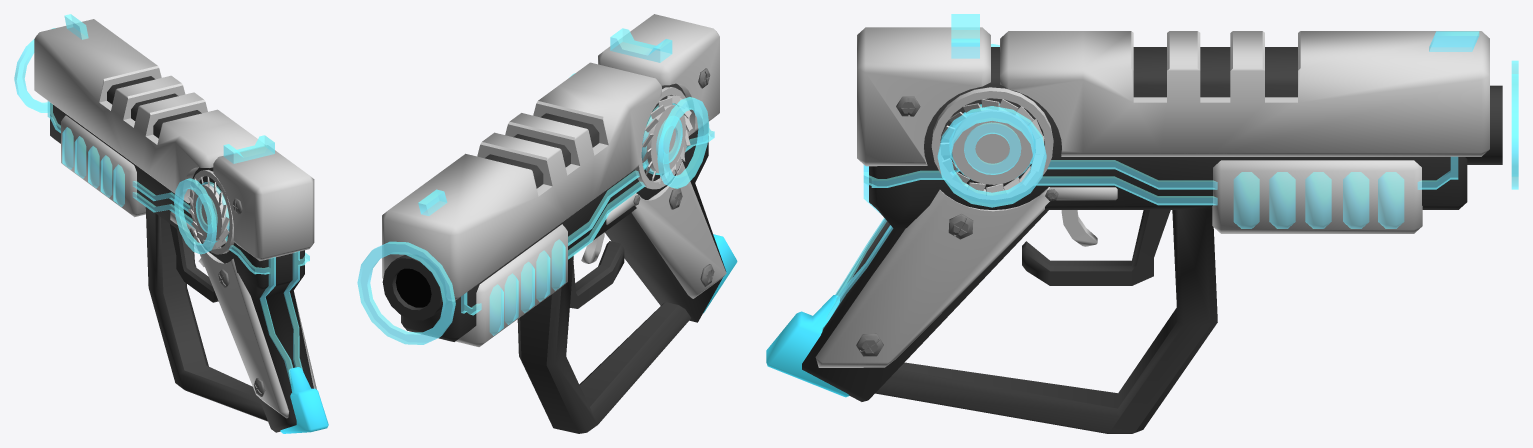
The model's file is Laser_gun.fbx.
The picture shows the model from 3 angles, left to right: view 1: azimuth 30°, elevation 25°; view 2: azimuth 150°, elevation 25°; view 3: azimuth 270°, elevation 25°; orthographic projection. The views are drawn at different scales.
Parts seen in each view (by area): view 1: Cube, Cube_1_4, Cube_2_4, Cube_4_2, Cube_3_3, Cube_11_2, Cube_10, Tube_3_4, Cylinder_4_2, Tube_2, Cube_2, Tube_2_2 (+8 smaller); view 2: Cube_1_4, Cube, Cube_2_4, Cube_3_3, Cube_4_2, Tube_2, Tube_3_4, Tube_3, Cylinder_4_2, Cube_11_2, Cube_2, Tube_4 (+11 smaller); view 3: Cube, Cube_1_4, Cube_4_2, Cube_3_3, Cube_2_4, Cylinder_3_2, Cube_11_2, Tube_1, Cube_10, Tube, Cube_11, Tube_3_2 (+11 smaller).
Boxes of the visible parts, left/top/right/bottom form: Cube: left=50, top=76, right=313, bottom=432; Cube_1_4: left=34, top=19, right=264, bottom=200; Cube_2_4: left=213, top=145, right=314, bottom=260; Cube_4_2: left=193, top=229, right=316, bottom=418; Cube_3_3: left=61, top=115, right=145, bottom=217; Cube_11_2: left=47, top=101, right=309, bottom=383; Cube_10: left=280, top=367, right=328, bottom=433; Tube_3_4: left=174, top=178, right=216, bottom=254; Cylinder_4_2: left=193, top=183, right=229, bottom=241; Tube_2: left=14, top=28, right=55, bottom=112; Cube_2: left=223, top=135, right=274, bottom=163; Tube_2_2: left=189, top=170, right=234, bottom=254; Cube_1_4: left=382, top=62, right=661, bottom=301; Cube: left=401, top=83, right=726, bottom=433; Cube_2_4: left=598, top=14, right=719, bottom=135; Cube_3_3: left=455, top=224, right=567, bottom=346; Cube_4_2: left=631, top=162, right=726, bottom=298; Tube_2: left=357, top=241, right=455, bottom=344; Tube_3_4: left=657, top=97, right=709, bottom=188; Tube_3: left=382, top=254, right=450, bottom=320; Cylinder_4_2: left=642, top=104, right=685, bottom=173; Cube_11_2: left=461, top=128, right=714, bottom=315; Cube_2: left=610, top=28, right=672, bottom=62; Tube_4: left=395, top=268, right=431, bottom=307; Cube: left=802, top=47, right=1467, bottom=433; Cube_1_4: left=1000, top=31, right=1489, bottom=156; Cube_4_2: left=815, top=187, right=1049, bottom=367; Cube_3_3: left=1212, top=160, right=1422, bottom=233; Cube_2_4: left=857, top=27, right=990, bottom=166; Cylinder_3_2: left=952, top=106, right=1033, bottom=184; Cube_11_2: left=822, top=156, right=1458, bottom=329; Tube_1: left=937, top=106, right=1046, bottom=207; Cube_10: left=766, top=295, right=849, bottom=397; Tube: left=931, top=87, right=1053, bottom=199; Cube_11: left=1035, top=176, right=1217, bottom=205; Tube_3_2: left=964, top=122, right=1021, bottom=174.
Bounding box in the file's own units: 182 × 519 × 892.
